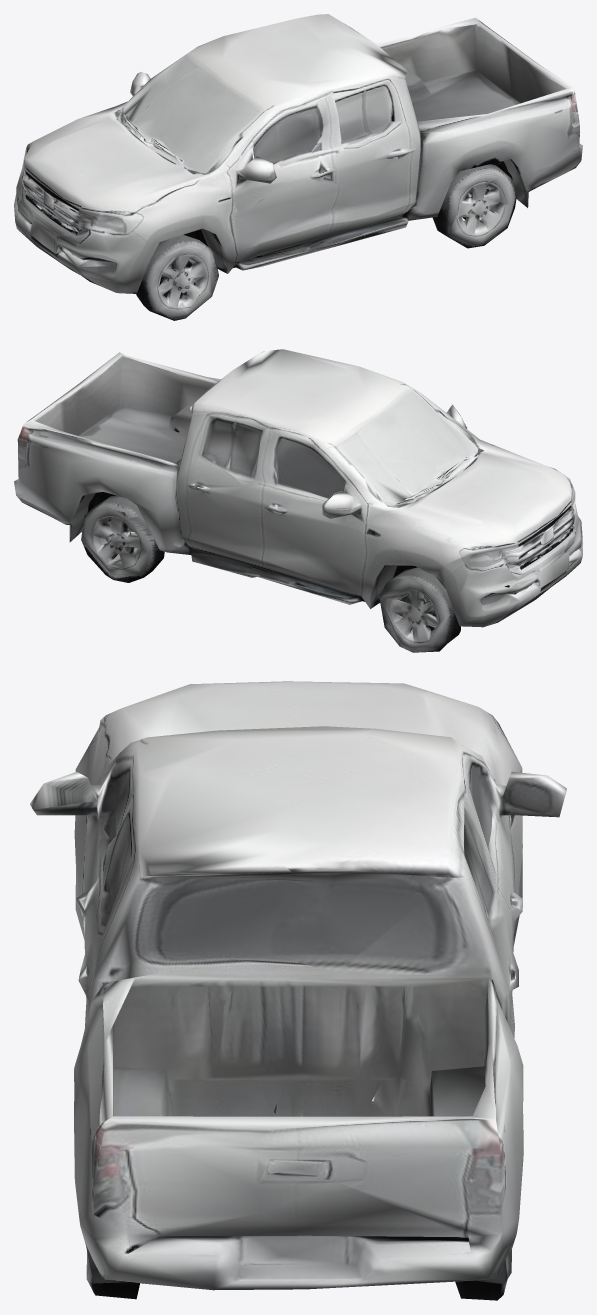
Rendered from pickup.glb.
3 views of the same model, one above another, from view 1: azimuth 30°, elevation 25°; view 2: azimuth 150°, elevation 25°; view 3: azimuth 270°, elevation 25° (orthographic). The views are drawn at different scales.
Visible parts, largest first — view 1: tripo_node_e2021d49-07d9-4509-bb67-804228250304; view 2: tripo_node_e2021d49-07d9-4509-bb67-804228250304; view 3: tripo_node_e2021d49-07d9-4509-bb67-804228250304.
Part boxes in pixels (x1,y1,x2,y2): tripo_node_e2021d49-07d9-4509-bb67-804228250304: (14,14,582,320); tripo_node_e2021d49-07d9-4509-bb67-804228250304: (14,349,582,652); tripo_node_e2021d49-07d9-4509-bb67-804228250304: (30,681,566,1300).
Size of the model in its own units: 0.9991 by 0.3667 by 0.47.
1 material, 1 textured.
